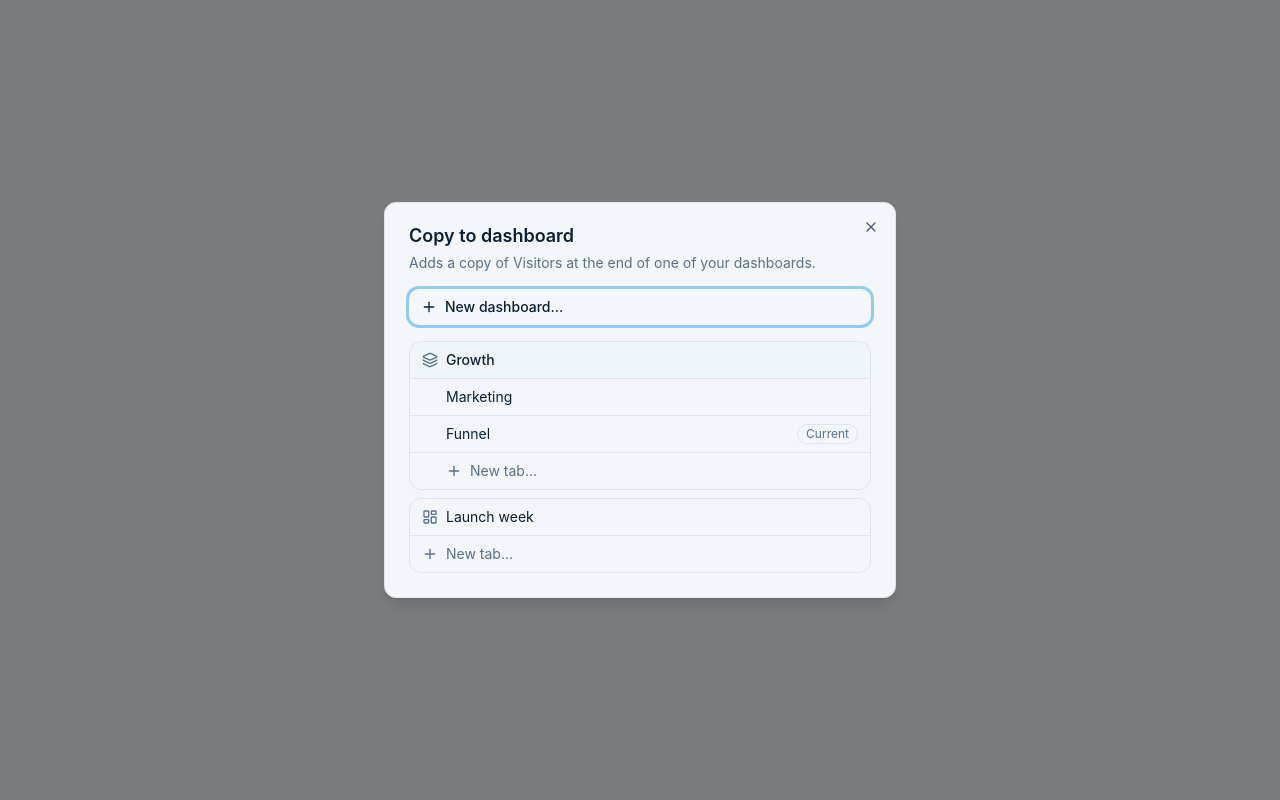
CopyWidgetDialog › goes back to the list from the title field
The width and height of the screenshot is (1280, 800).
What coordinates should you click on to do the following:
click the button with aria-label "New tab in Growth…"
I would click on:
 (504, 470)
Its box is [410,453,870,489].
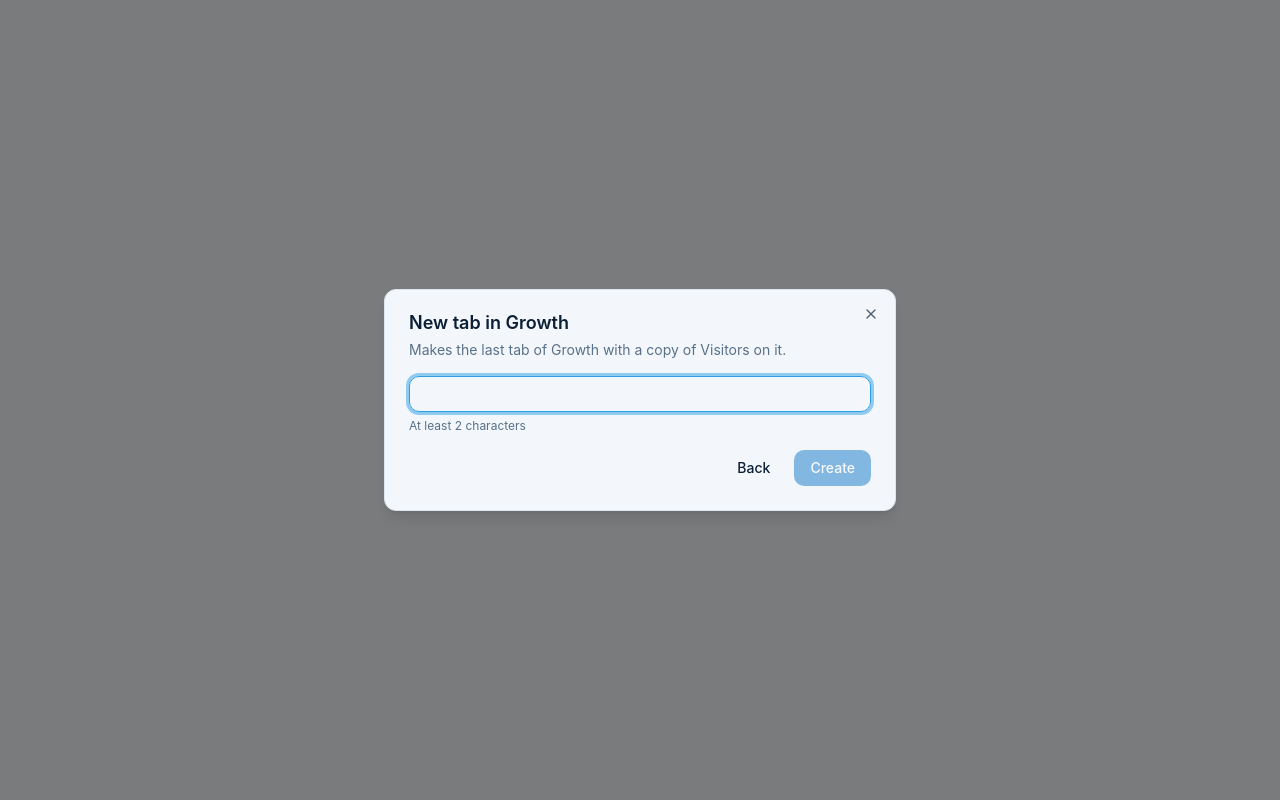
What coordinates should you click on to do the following:
click the button "Back"
I would click on:
 (754, 468)
Its box is [721,450,786,486].
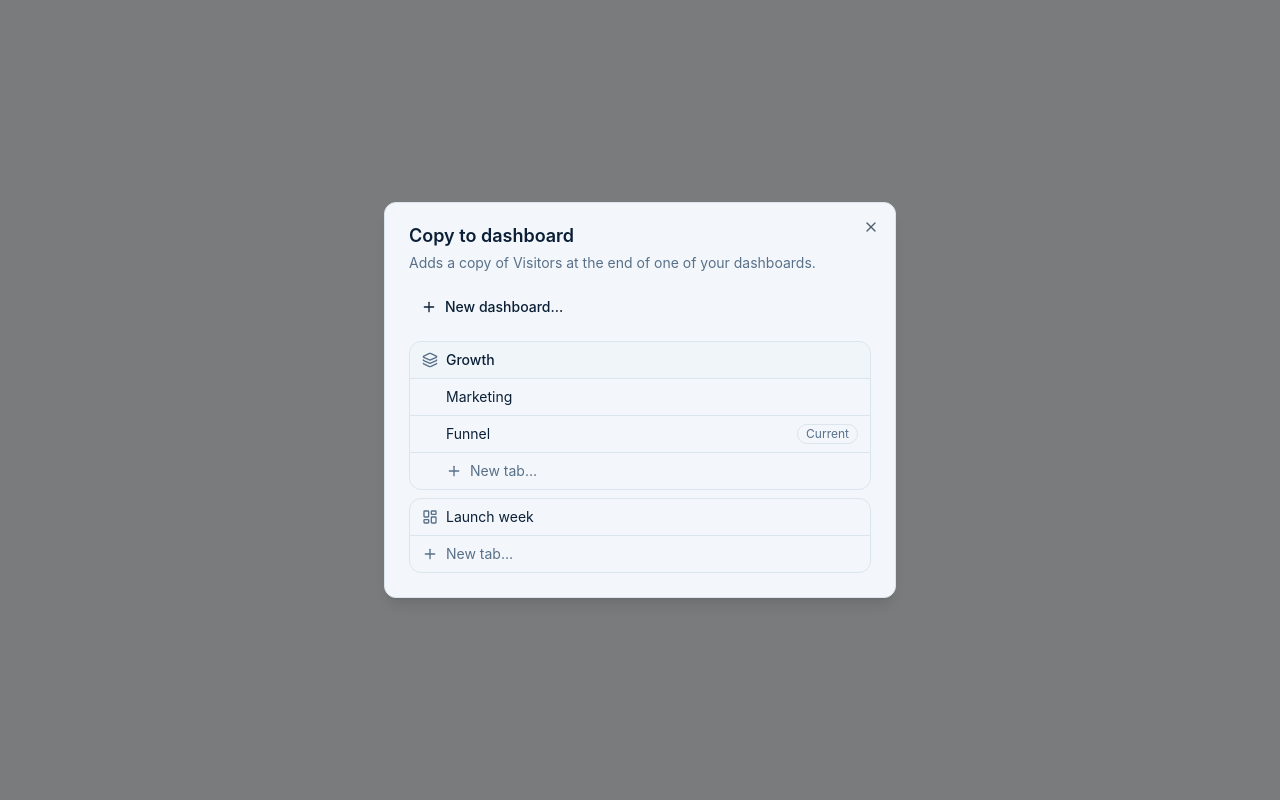
Check: the list item "Growth" is shown, box [409,341,871,490]
